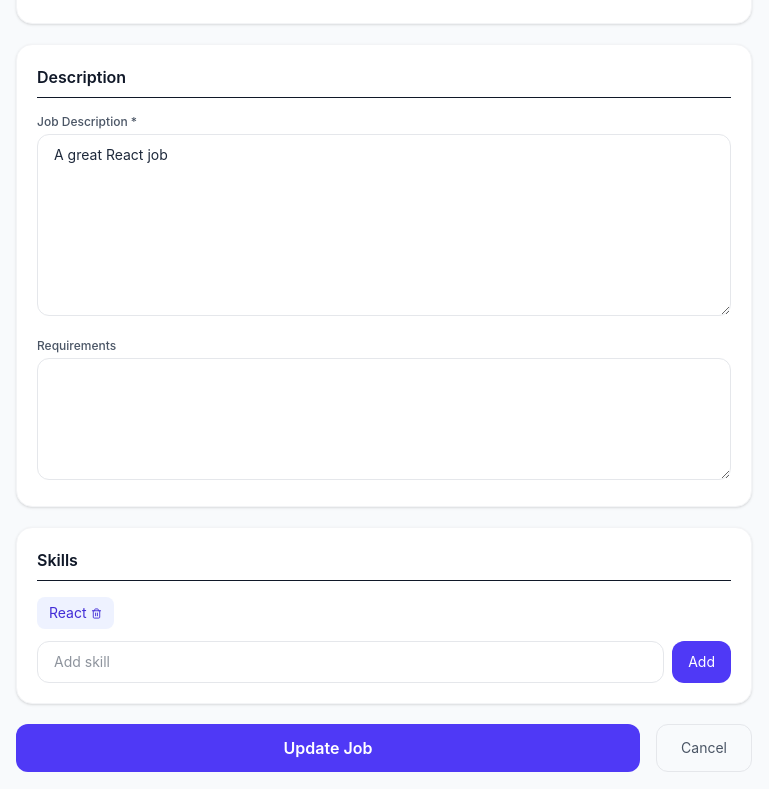
Scenario: EditJob › adds a new skill via Enter key press
(page scrolled)
expect the heading "Skills" is shown: met, box x1=37 y1=548 x2=731 y2=581
Type "Vue" into the field with placeholder "Add skill" at (351, 662), box x1=37 y1=641 x2=664 y2=683
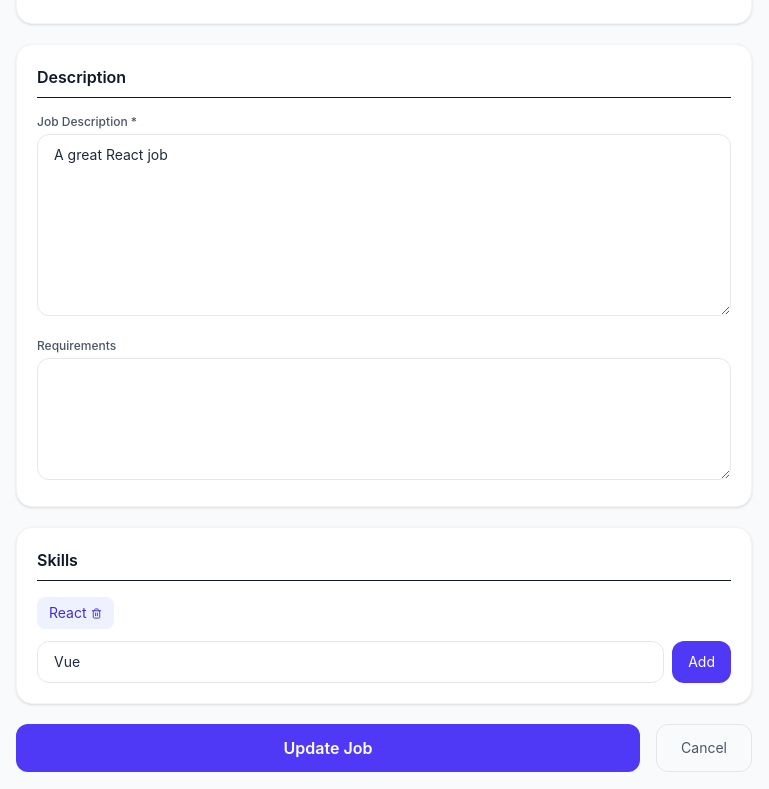
Press Enter in the field with placeholder "Add skill", box x1=37 y1=641 x2=664 y2=683
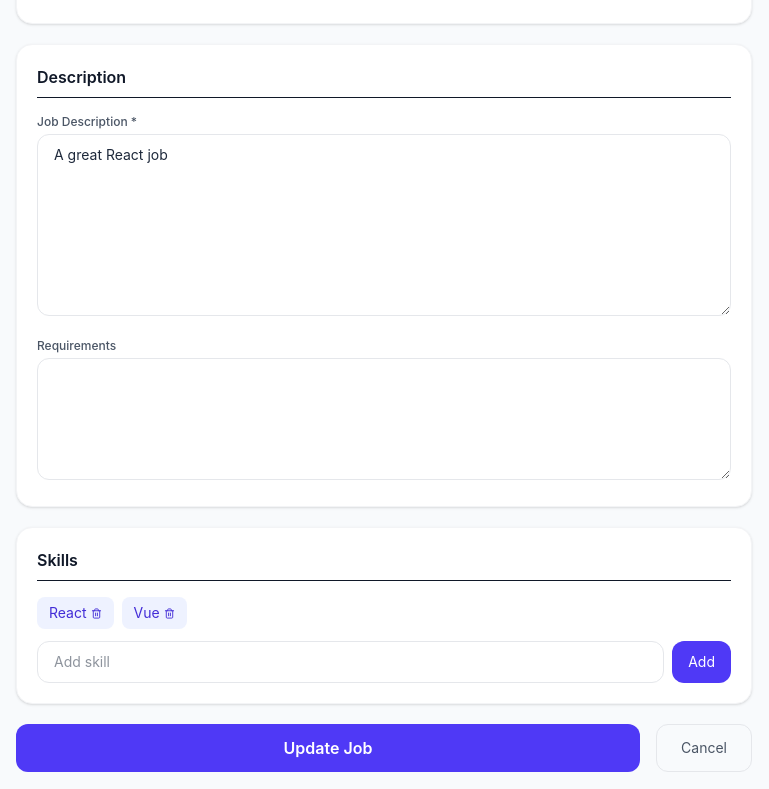
expect the text "Vue" is shown: met, box x1=122 y1=597 x2=187 y2=629
